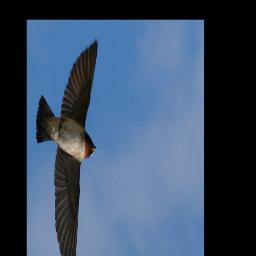Swallow: (35, 40, 98, 256)
